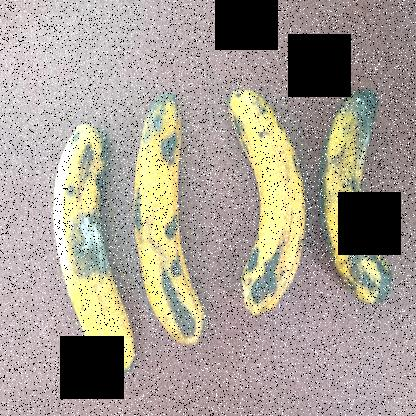overripe: (210, 70, 317, 324), (123, 86, 208, 357)
ripe: (48, 101, 139, 400)
rotten: (313, 81, 410, 343), (66, 200, 128, 312)
